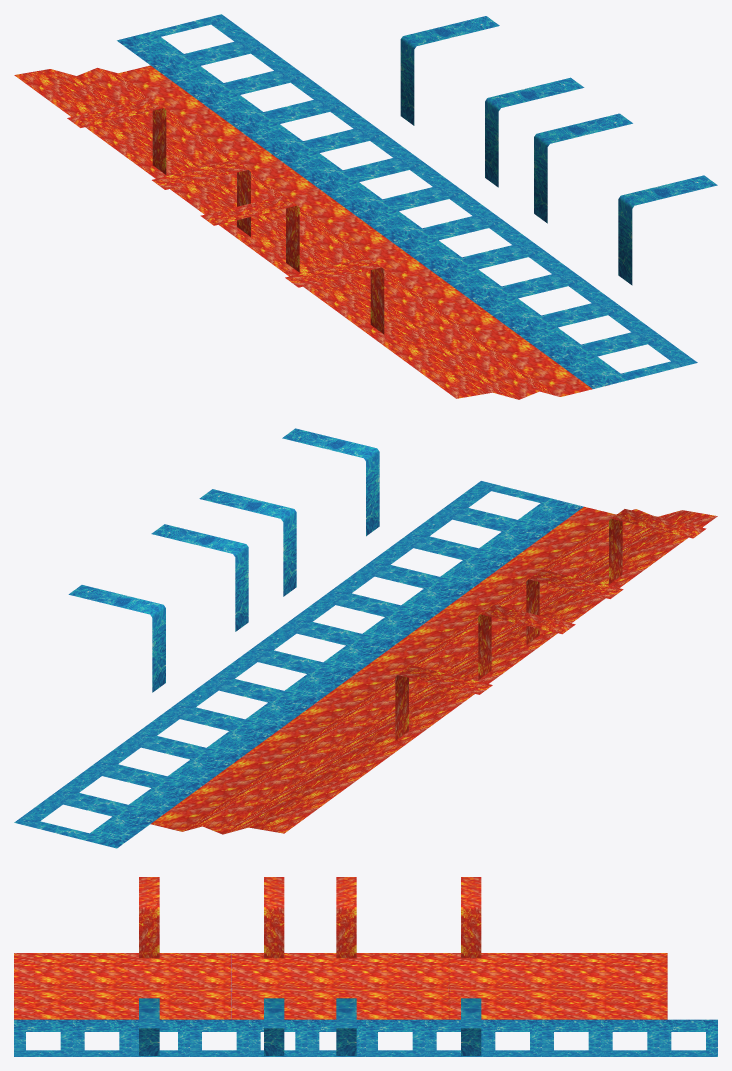
The model's file is S99_DownOffset.FBX.
3 views of the same model, one above another, from view 1: azimuth 30°, elevation 25°; view 2: azimuth 150°, elevation 25°; view 3: azimuth 270°, elevation 25° (orthographic). The views are drawn at different scales.
Parts seen in each view (by area): view 1: S99_DownOffset; view 2: S99_DownOffset; view 3: S99_DownOffset.
Boxes of the visible parts, <box> form: S99_DownOffset: <box>14,14,717,399</box>; S99_DownOffset: <box>14,428,717,848</box>; S99_DownOffset: <box>14,877,717,1056</box>.
Size of the model in its own units: 8144 by 16020 by 1682.
